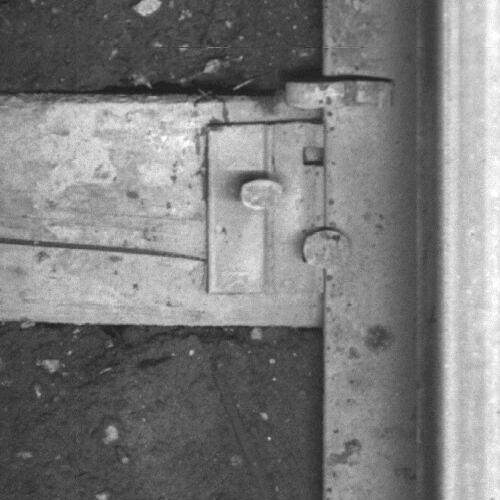crutch: (285, 77, 397, 108)
do: (206, 123, 353, 292)
rail: (438, 1, 500, 500)
tie_wood: (1, 102, 322, 326)
wood_crack: (1, 233, 208, 267)
